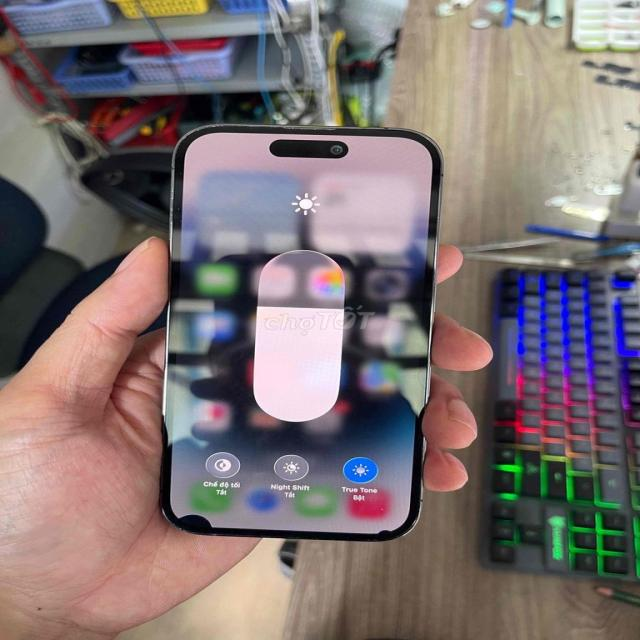scratch: (187, 122, 355, 146)
screen_defect: (172, 505, 220, 539), (369, 522, 398, 544)
